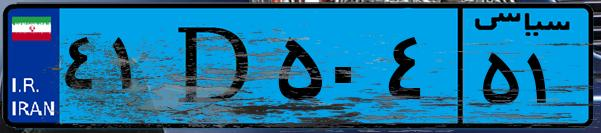0: (330, 28, 385, 110)
1: (525, 38, 570, 115), (110, 28, 158, 98)
4: (385, 28, 445, 110), (57, 26, 110, 100)
5: (270, 28, 330, 110), (475, 38, 525, 113)
D: (158, 12, 270, 120)
